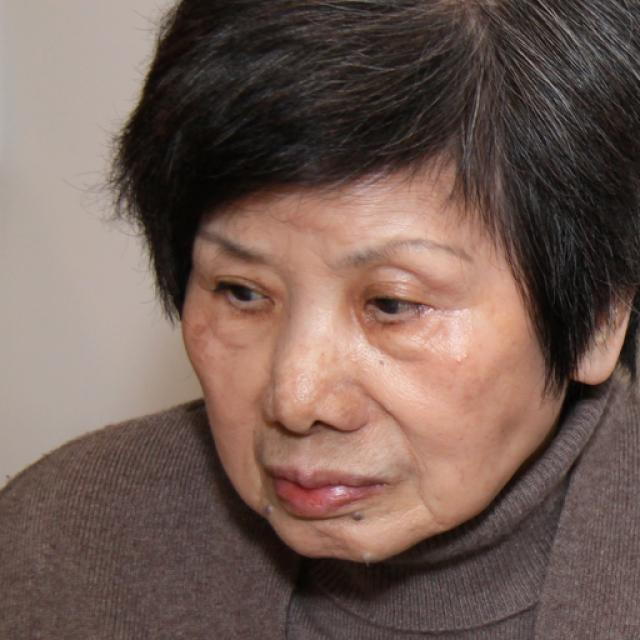sad: (182, 160, 552, 565)
